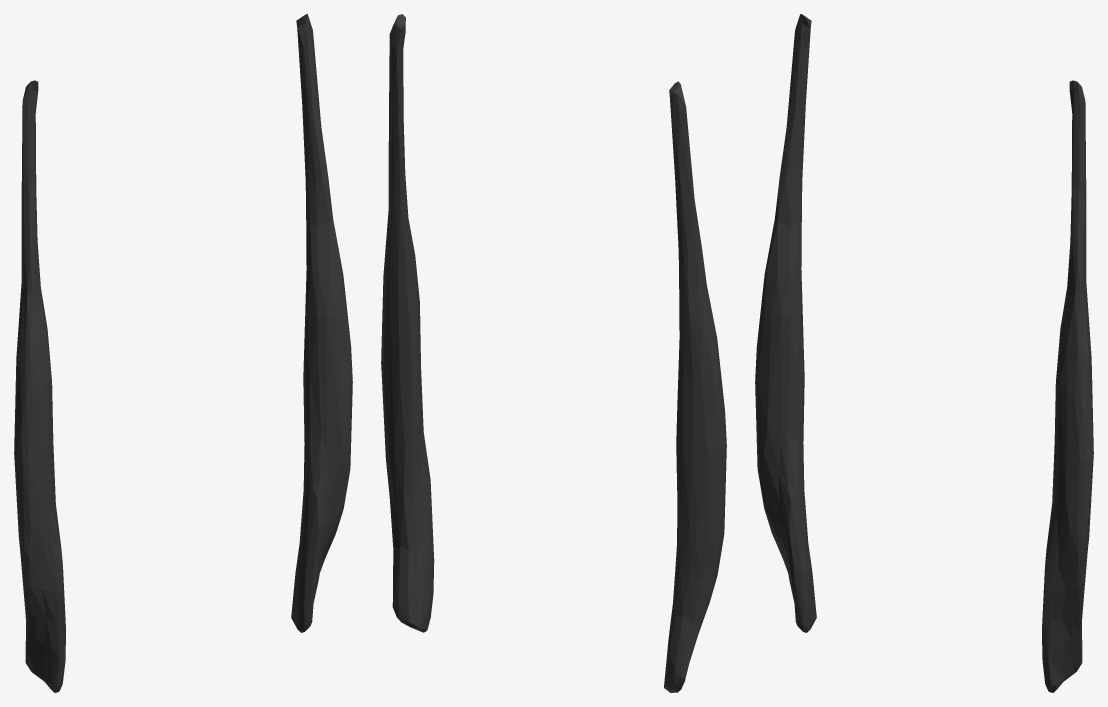
Rendered from m_flexor_carpi_ulnaris_ulna.glb.
3 views of the same model, side by side, from view 1: azimuth 30°, elevation 25°; view 2: azimuth 150°, elevation 25°; view 3: azimuth 330°, elevation 25° (orthographic). The views are drawn at different scales.
Parts seen in each view (by area): view 1: m_flexor_carpi_ulnaris_ulna; view 2: m_flexor_carpi_ulnaris_ulna; view 3: m_flexor_carpi_ulnaris_ulna.
Boxes of the visible parts, box(x1,y1,x2,y2) form: m_flexor_carpi_ulnaris_ulna: box(14, 14, 352, 692); m_flexor_carpi_ulnaris_ulna: box(381, 14, 726, 692); m_flexor_carpi_ulnaris_ulna: box(755, 14, 1093, 692).
Bounding box in the file's own units: 0.00398 × 0.0069 × 0.000553.
Materials: 1 (1 with a texture image).
